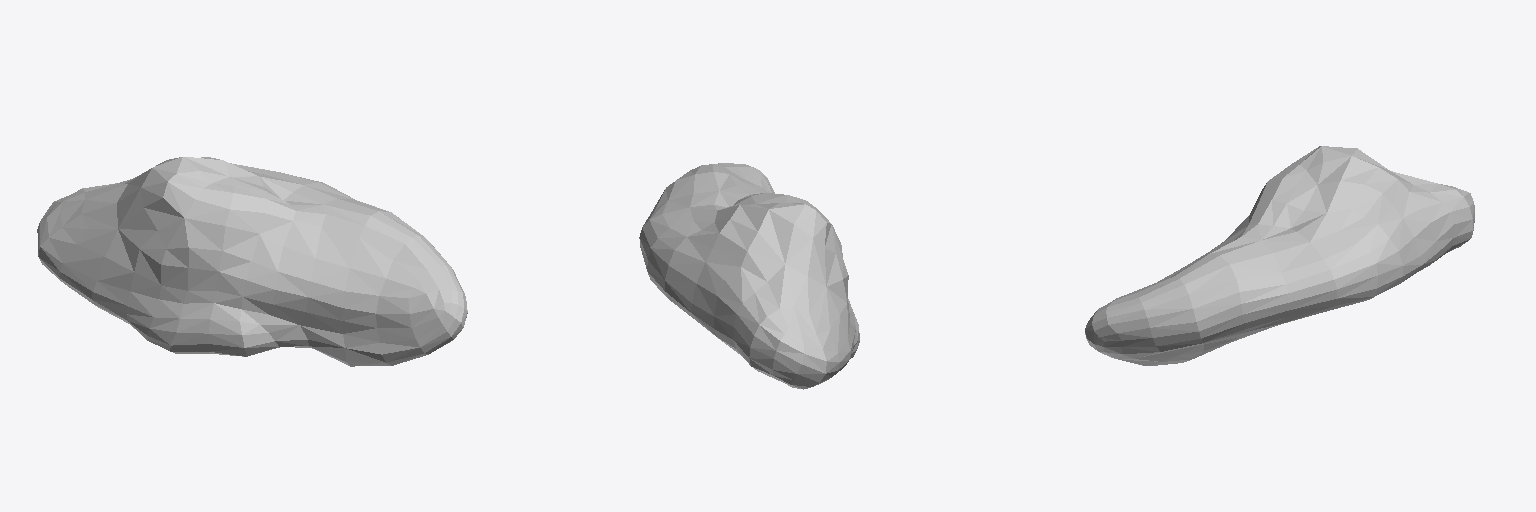
File: Cloud.OBJ
3 views of the same model, side by side, from view 1: azimuth 30°, elevation 25°; view 2: azimuth 150°, elevation 25°; view 3: azimuth 270°, elevation 25° (orthographic).
Visible parts, largest first — view 1: Group20135; view 2: Group20135; view 3: Group20135.
Part boxes in pixels (x1,y1,x2,y2): Group20135: (37,157,467,366); Group20135: (639,163,859,389); Group20135: (1085,146,1474,365).
Bounding box in the file's own units: 5.38 × 3.06 × 6.61.